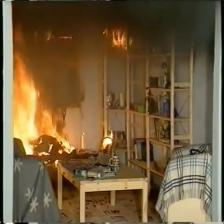fire: (13, 54, 62, 146), (110, 30, 133, 49)
smoke: (14, 0, 80, 51), (89, 2, 211, 27)
